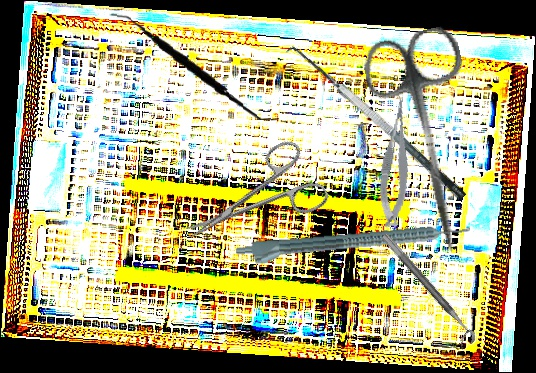Fixation Ring: (371, 232, 480, 351)
Handpiece: (235, 221, 472, 269)
Iris Scissors: (358, 23, 504, 262), (170, 134, 332, 265)
Micro Scissor: (370, 94, 424, 230)
Spatula Surgical: (279, 36, 468, 216), (102, 12, 286, 122)
